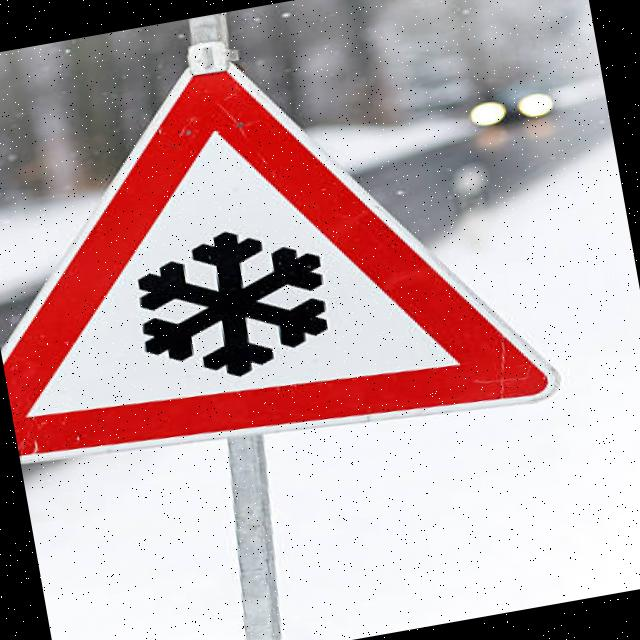snow_warning: (0, 0, 607, 506)
